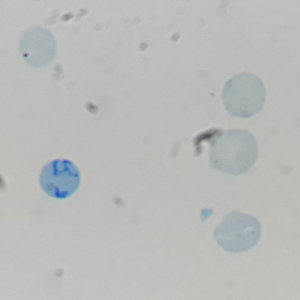aggregate reticulocyte: (37, 158, 82, 200)
erythrocyte: (206, 127, 259, 176), (17, 26, 58, 68)
punctate reticulocyte: (219, 70, 267, 120), (210, 209, 263, 254)
